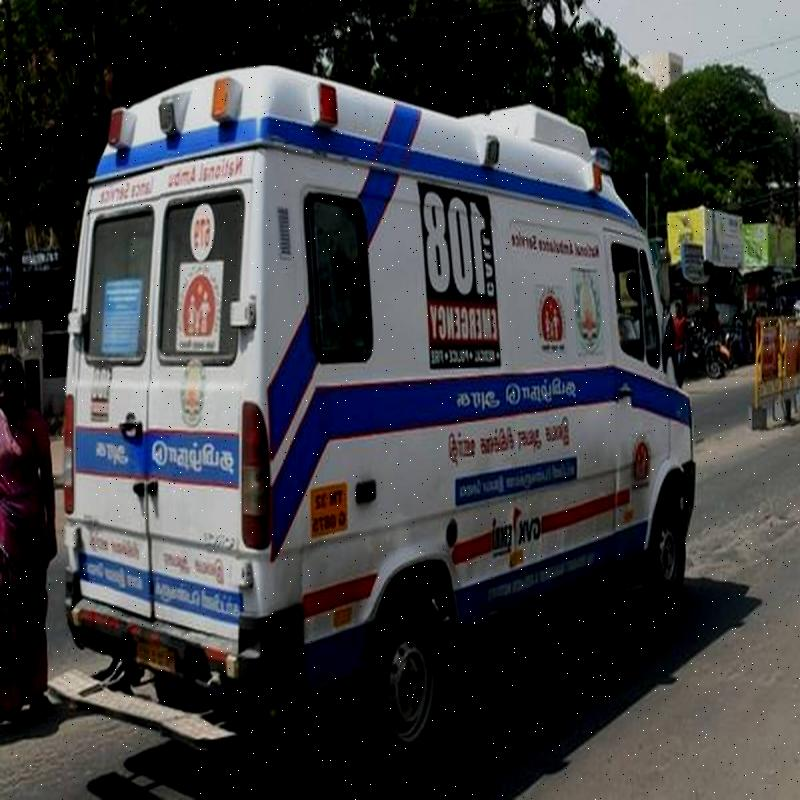ambulance: (67, 79, 686, 741)
